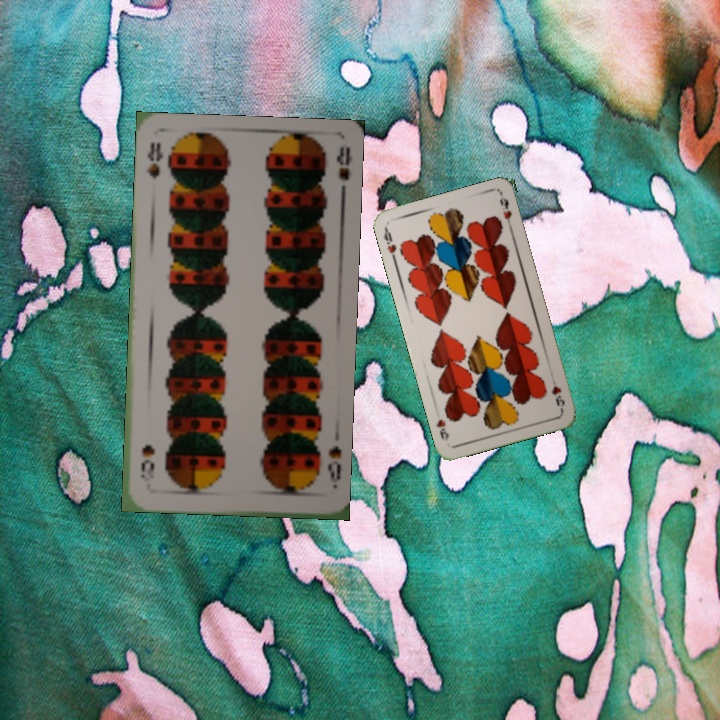H9: (547, 373, 567, 413), (379, 224, 399, 264)
S8: (142, 138, 166, 181), (324, 441, 343, 491)
